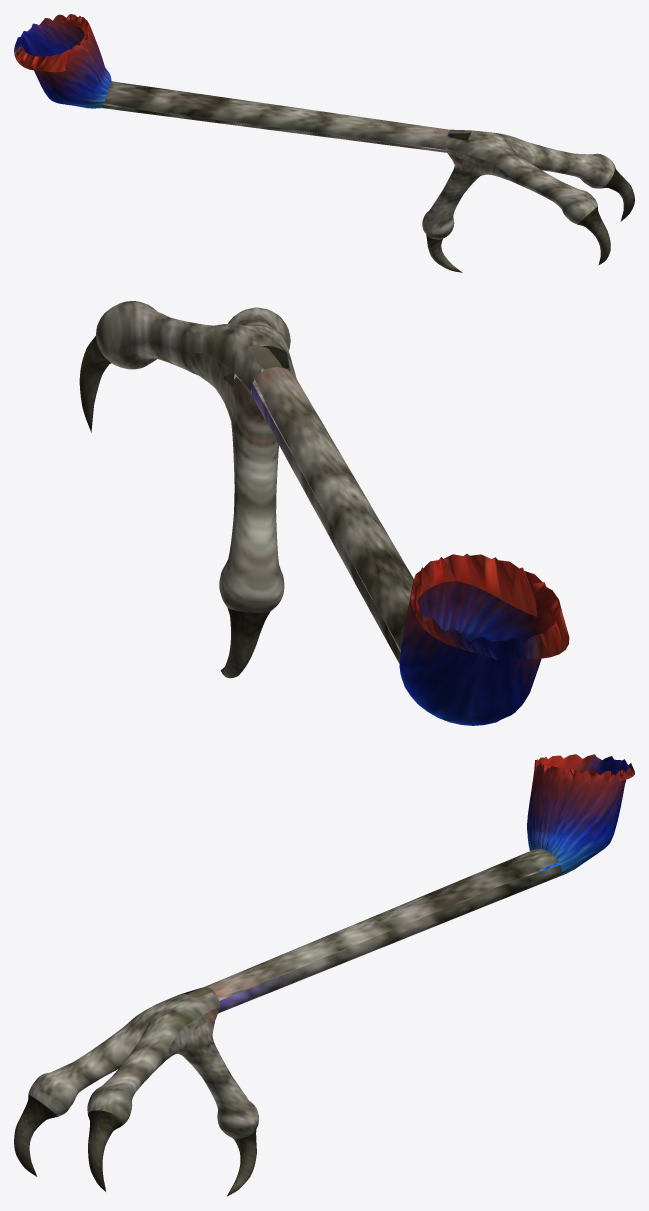
Rendered from PataDer.obj.
3 renders of one model, top to bottom at view 1: azimuth 30°, elevation 25°; view 2: azimuth 150°, elevation 25°; view 3: azimuth 270°, elevation 25°, orthographic. The views are drawn at different scales.
Parts seen in each view (by area): view 1: pajaro_azul.041; view 2: pajaro_azul.041; view 3: pajaro_azul.041.
Boxes of the visible parts, x1,y1,x2,y2 form: pajaro_azul.041: [14, 14, 634, 272]; pajaro_azul.041: [79, 301, 569, 725]; pajaro_azul.041: [14, 754, 634, 1196].
Size of the model in its own units: 8.04 by 3.82 by 7.82.
Materials: 1 (1 with a texture image).
